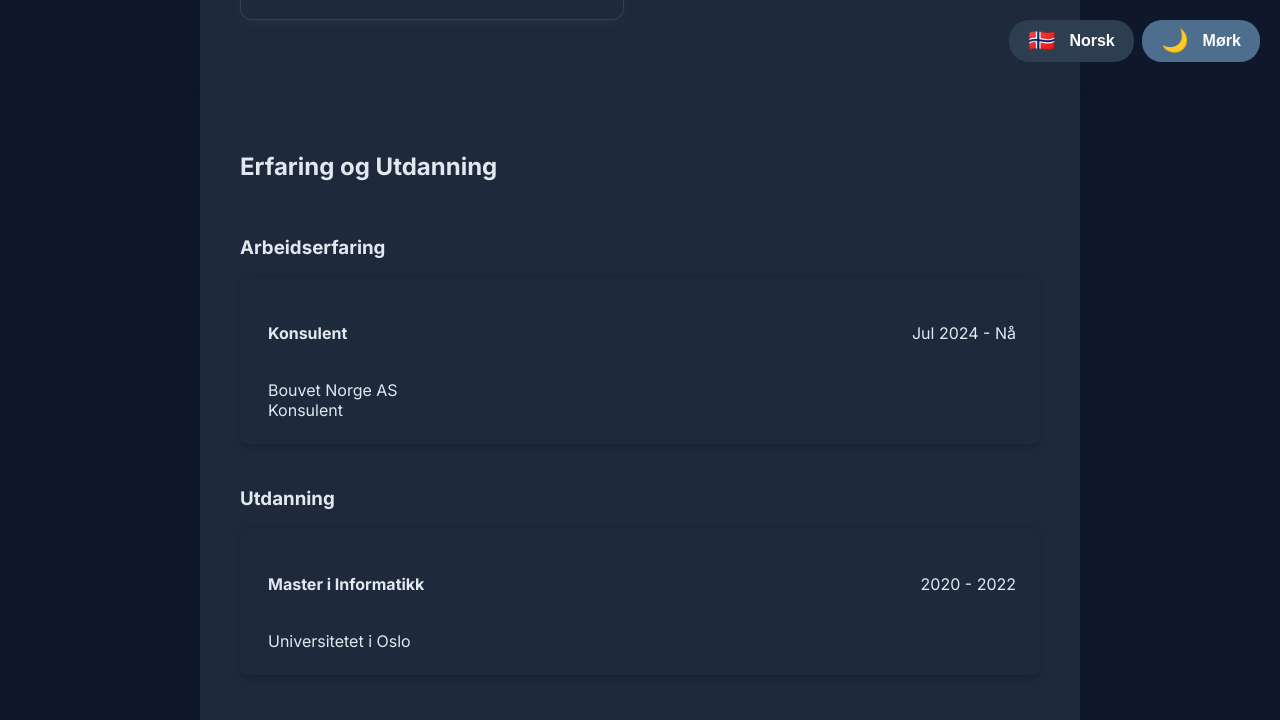
Experience Section › expands experience details on click
(page scrolled)
# Click first experience item
Click the element with test id "experience-item" that starts with "Konsulent".
click(640, 361)  # box [240,278,1040,444]
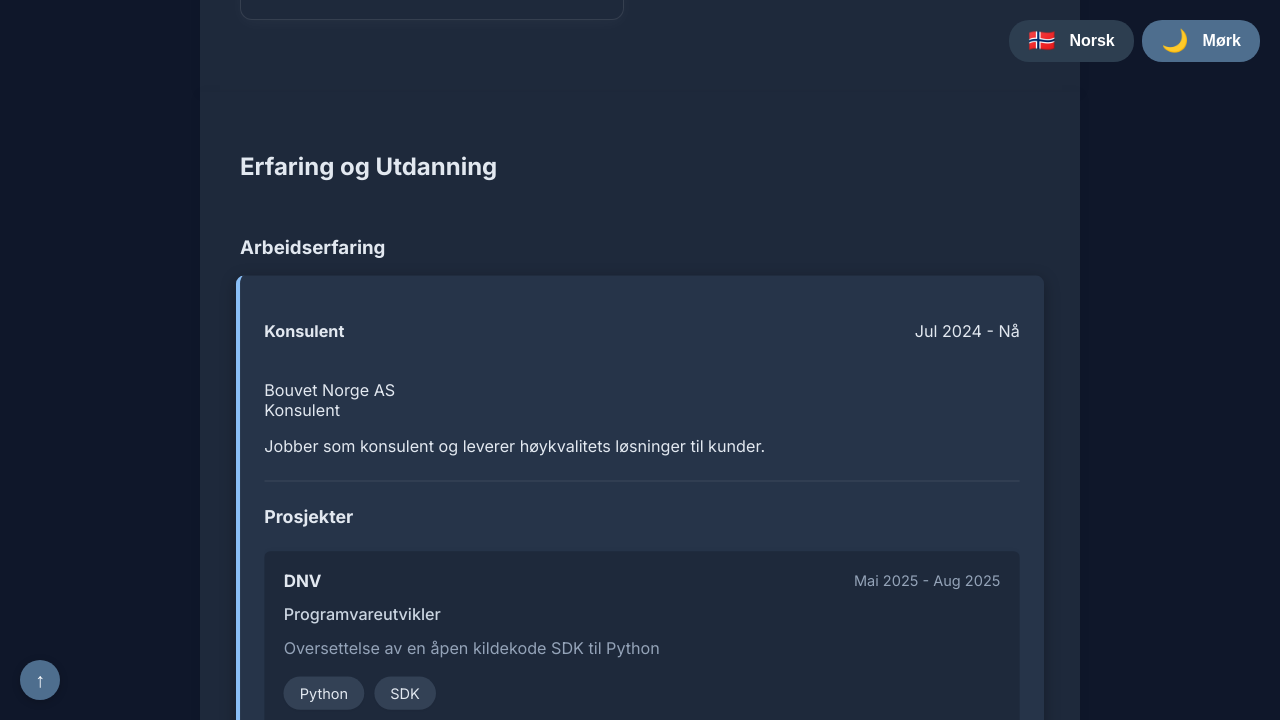
Expected: the heading "Prosjekter" is shown, [264,505,353,526]
